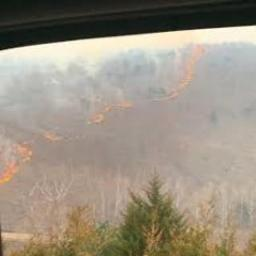Small fire: (3, 35, 256, 185)
